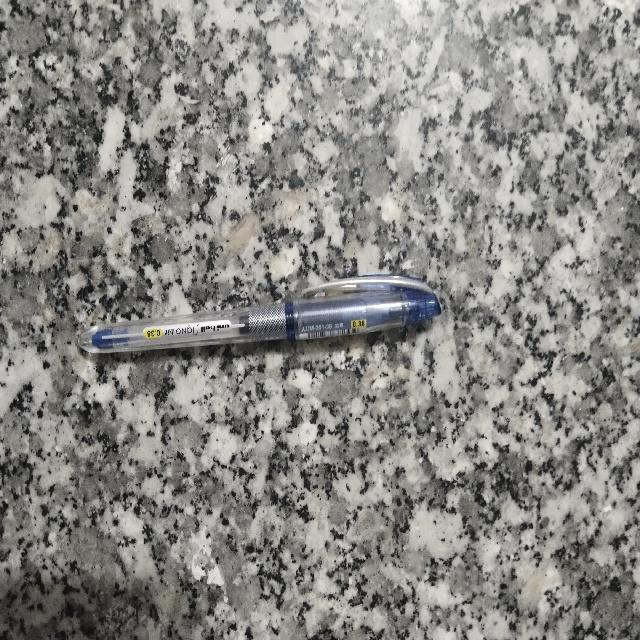pen: (79, 275, 440, 352)
